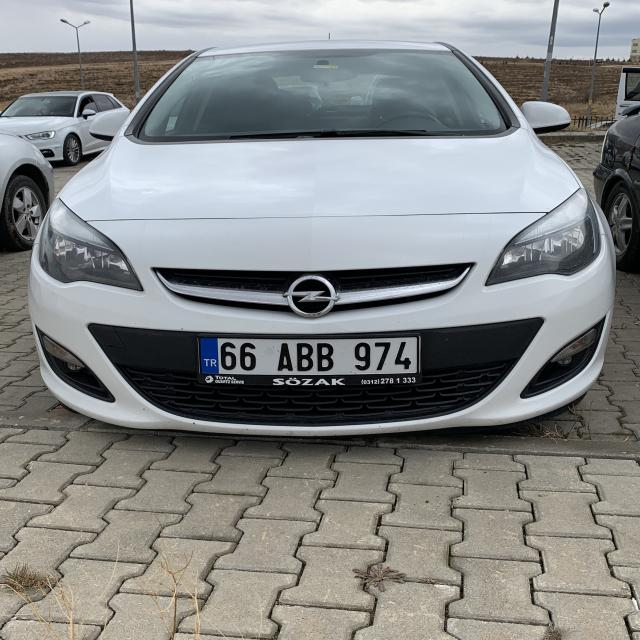license_plate: (197, 337, 419, 375)
